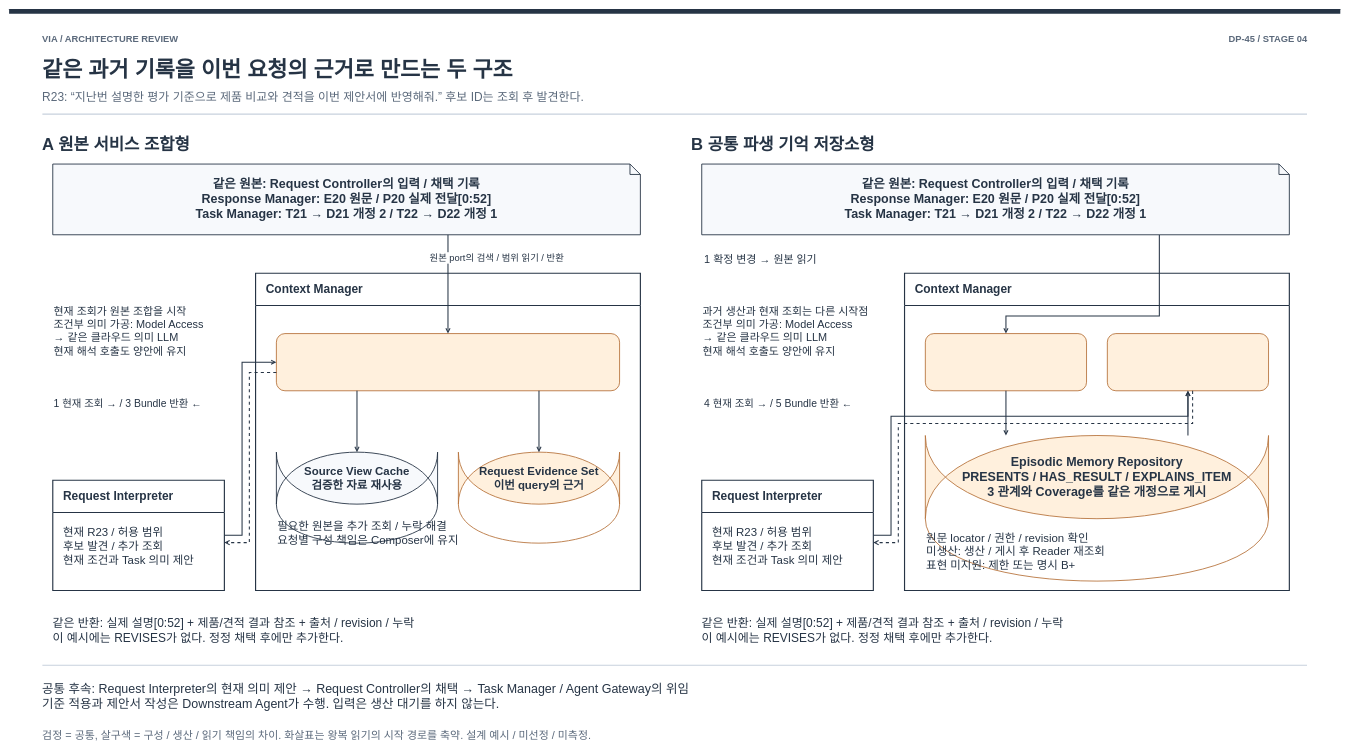
This 1349x753 diagram has some shape labels left out. The centre of each missing label's shape, as x and y in pixels:
Context Composer 2 원본 후보 읽기 / 유효 cache / 이번 조합: the point at 448,362
Evidence Reader 4 게시 근거 조회: the point at 1188,362
Memory Publisher 2 관계 생산 / 검증: the point at 1006,362
